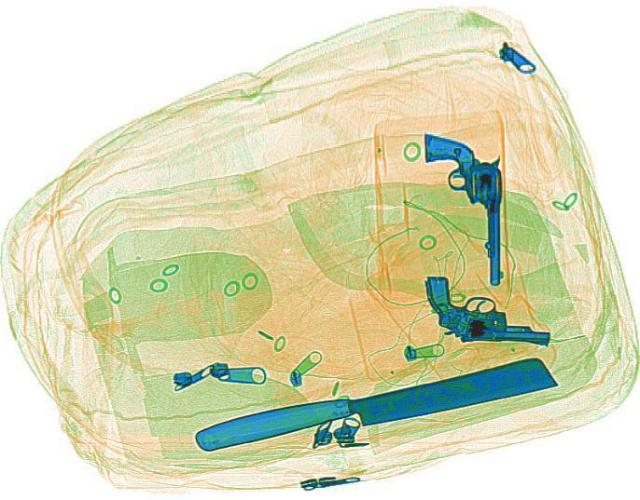Gun: (422, 129, 506, 285), (421, 274, 552, 344)
Knife: (187, 348, 558, 461)
